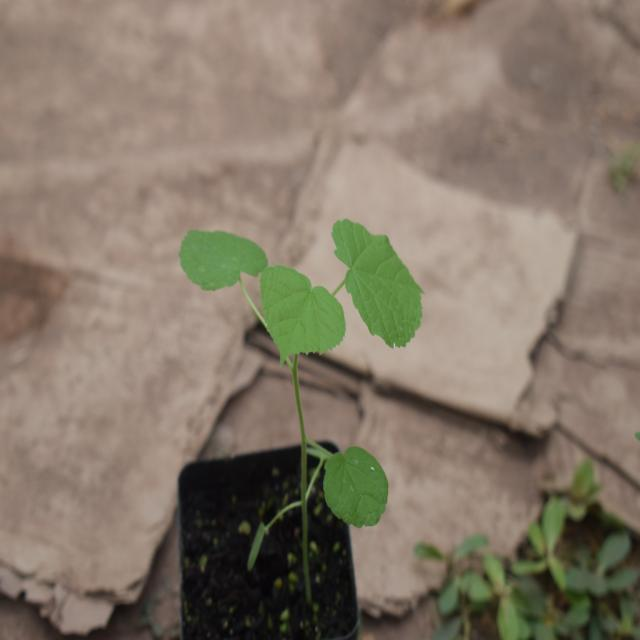abutilon theophrasti: (168, 201, 427, 538)
